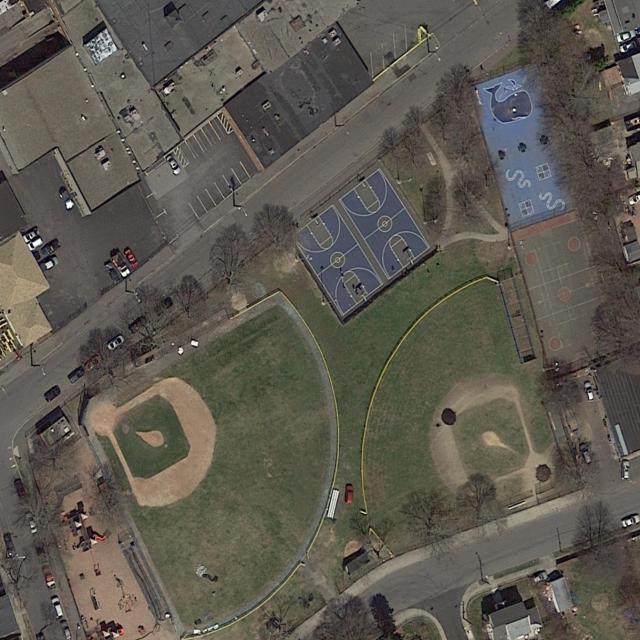small-vehicle: (110, 251, 132, 278), (127, 314, 150, 337), (165, 153, 184, 178), (82, 354, 104, 375), (153, 296, 175, 317), (41, 564, 57, 592), (40, 239, 63, 258), (34, 537, 49, 566), (103, 261, 121, 285), (124, 247, 142, 270), (58, 189, 76, 212), (106, 333, 126, 353), (616, 27, 638, 45), (38, 256, 60, 273), (43, 384, 62, 403), (50, 596, 65, 620), (582, 381, 597, 405), (25, 510, 39, 535), (67, 366, 86, 384), (22, 227, 41, 244), (578, 442, 592, 465), (620, 513, 640, 529), (13, 479, 27, 500), (58, 619, 72, 640), (530, 570, 548, 586), (619, 39, 637, 55), (2, 532, 15, 554), (343, 484, 354, 504), (621, 461, 630, 480)
